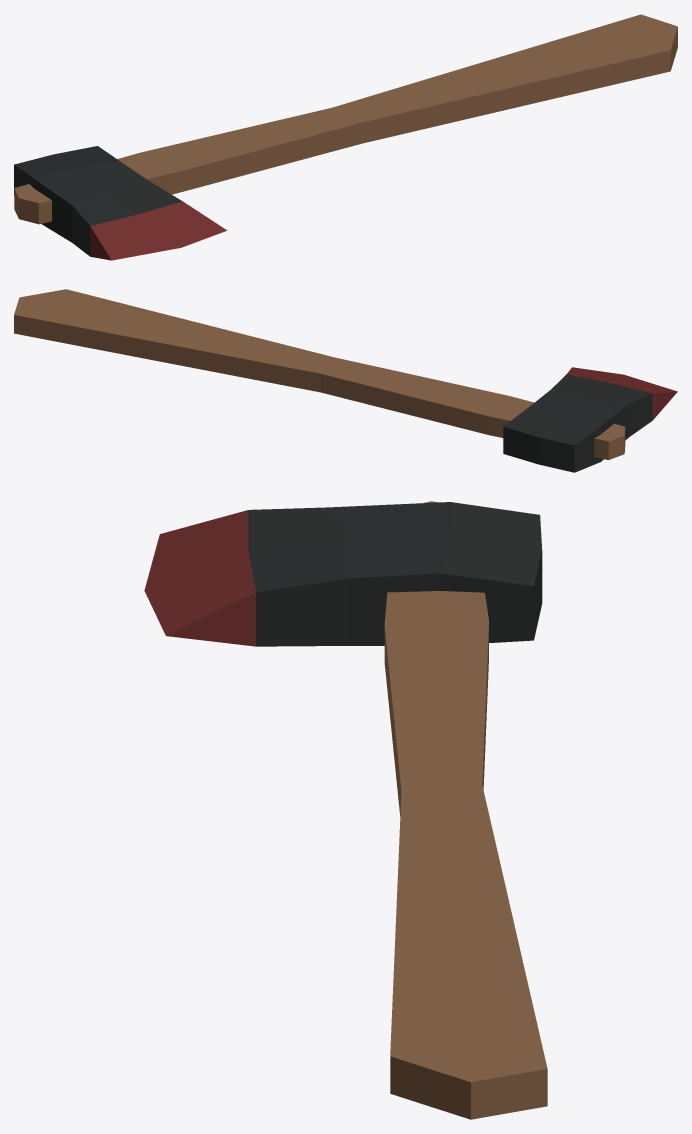
Rendered from Axe_1_Light_Brown.fbx.
3 views of the same model, one above another, from view 1: azimuth 30°, elevation 25°; view 2: azimuth 150°, elevation 25°; view 3: azimuth 270°, elevation 25° (orthographic). The views are drawn at different scales.
Parts seen in each view (by area): view 1: Axe_1_Light_Brown; view 2: Axe_1_Light_Brown; view 3: Axe_1_Light_Brown.
Part boxes in pixels (x1,y1,x2,y2): Axe_1_Light_Brown: (14,14,677,260); Axe_1_Light_Brown: (14,289,677,472); Axe_1_Light_Brown: (144,501,547,1119).
Size of the model in its own units: 137 by 7.99 by 40.18.
